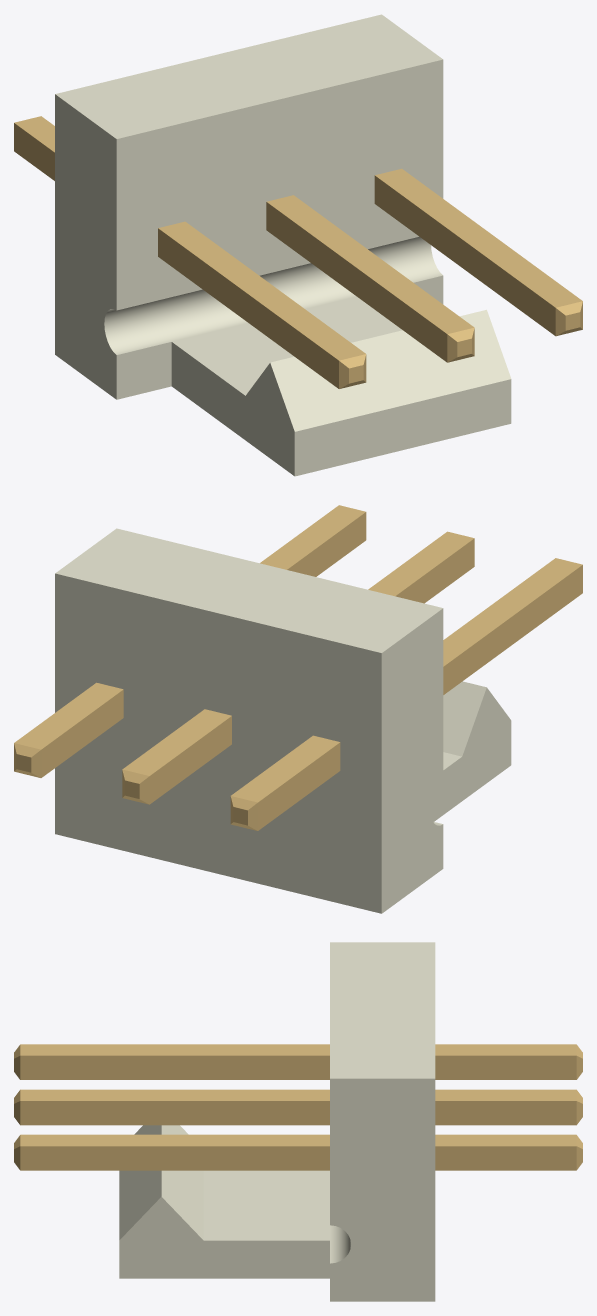
File: FanPinHeader_1x03_P2.54mm_Vertical-962f287fa454.glb
3 renders of one model, top to bottom at view 1: azimuth 30°, elevation 25°; view 2: azimuth 150°, elevation 25°; view 3: azimuth 270°, elevation 25°, orthographic. The views are drawn at different scales.
Visible parts, largest first — view 1: material0, material1; view 2: material0, material1; view 3: material0, material1.
Part boxes in pixels (x1,y1,x2,y2): material0: [55, 14, 511, 476]; material1: [14, 116, 582, 388]; material0: [55, 528, 511, 913]; material1: [14, 505, 582, 830]; material0: [119, 942, 435, 1301]; material1: [14, 1044, 582, 1170].
Size of the model in its own units: 7.66 by 5.84 by 13.5.
